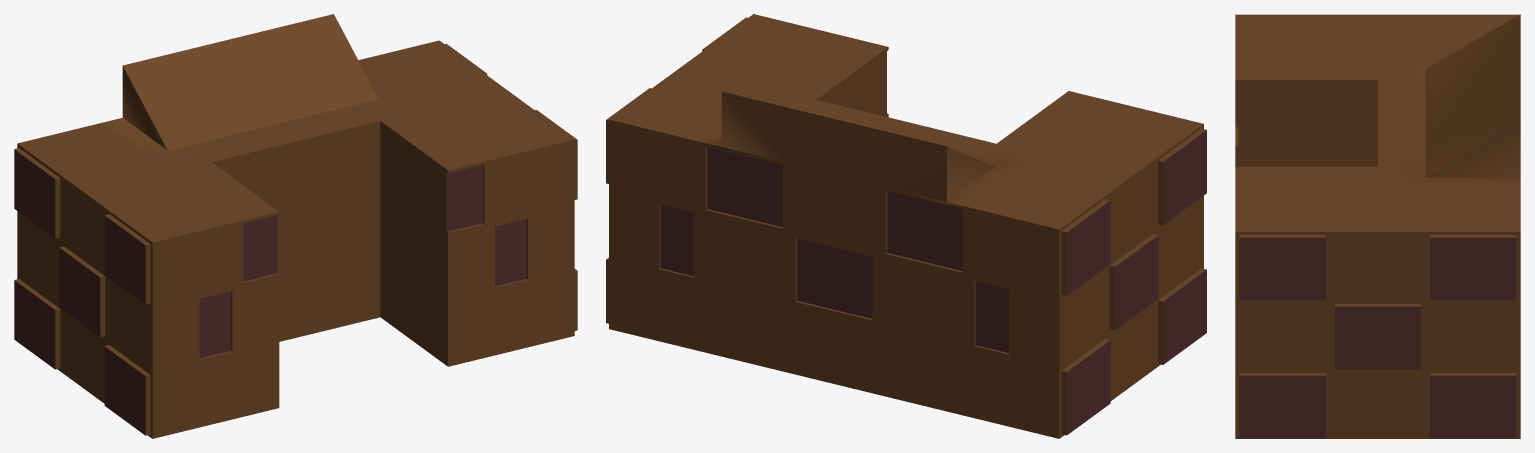
Rendered from desk.fbx.
The picture shows the model from 3 angles, left to right: view 1: azimuth 30°, elevation 25°; view 2: azimuth 150°, elevation 25°; view 3: azimuth 270°, elevation 25°; orthographic projection. The views are drawn at different scales.
Parts seen in each view (by area): view 1: Cube; view 2: Cube; view 3: Cube.
Part boxes in pixels (box(x1,y1,x2,y2)): Cube: box(14, 14, 577, 438); Cube: box(606, 14, 1206, 438); Cube: box(1235, 14, 1520, 438).
Bounding box in the file's own units: 184 × 101 × 100.
